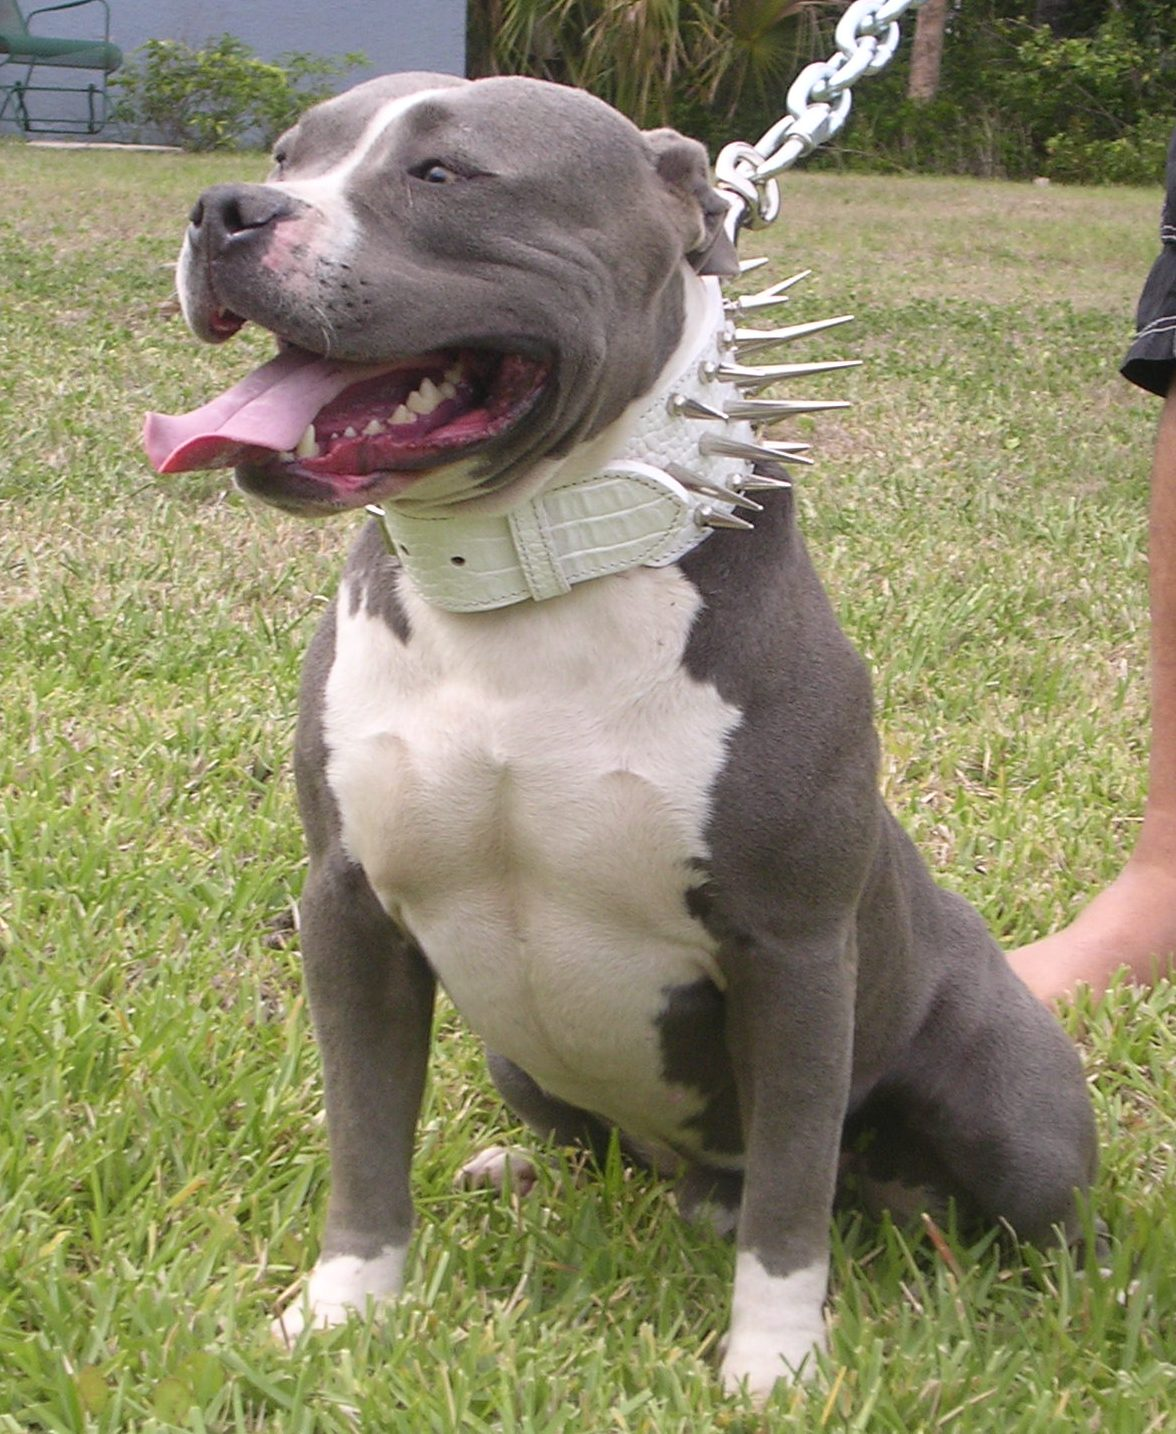am_pit_bull_terrier: (143, 66, 1099, 1402)
